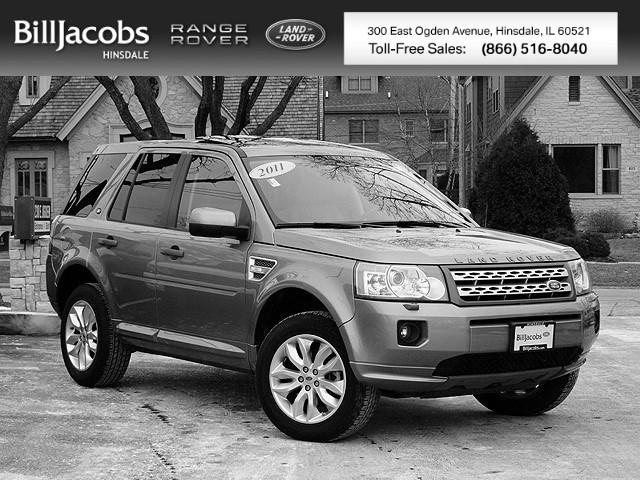car: (45, 138, 605, 445)
